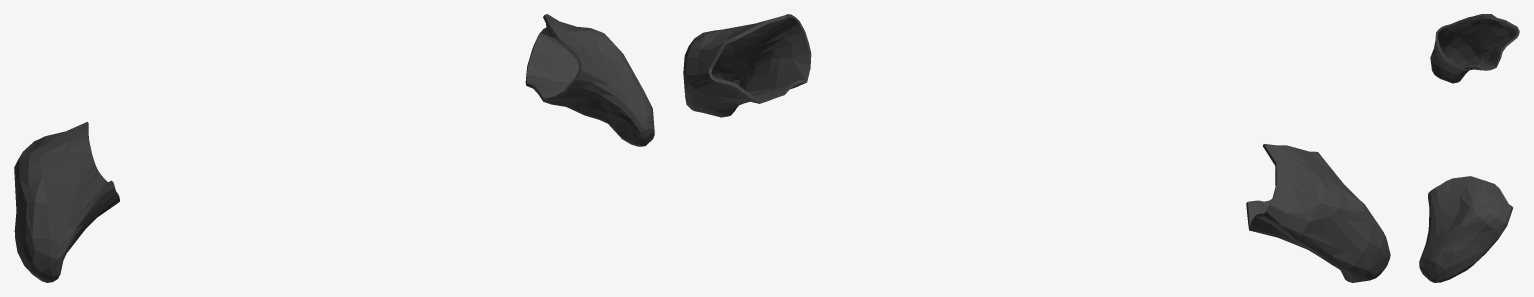
The model's file is c6_transverse_process.glb.
3 renders of one model, left to right at view 1: azimuth 30°, elevation 25°; view 2: azimuth 150°, elevation 25°; view 3: azimuth 270°, elevation 25°, orthographic. The views are drawn at different scales.
Parts seen in each view (by area): view 1: c6_transverse_process; view 2: c6_transverse_process; view 3: c6_transverse_process.
Part boxes in pixels (x1,y1,x2,y2): c6_transverse_process: (14,14,654,282); c6_transverse_process: (683,14,1390,282); c6_transverse_process: (1419,14,1519,282).
Bounding box in the file's own units: 52.62 × 10.17 × 10.52.
Materials: 1 (1 with a texture image).
